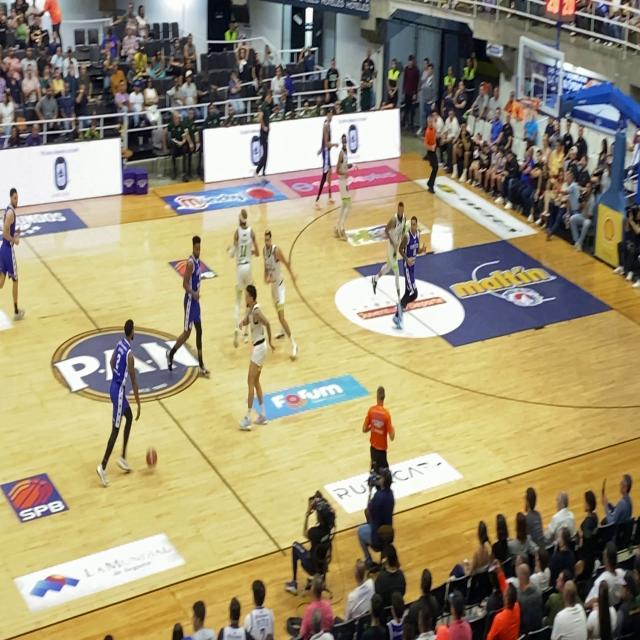Ball: (144, 440, 160, 475)
referee: (358, 379, 400, 486), (420, 110, 442, 204)
team1: (255, 225, 310, 366), (232, 283, 276, 432), (369, 196, 409, 334), (223, 200, 259, 314), (328, 120, 358, 249)
team2: (93, 308, 145, 497), (167, 227, 216, 389), (0, 162, 27, 342), (396, 206, 431, 338), (316, 106, 342, 212)
ubasket: (520, 96, 539, 124)
